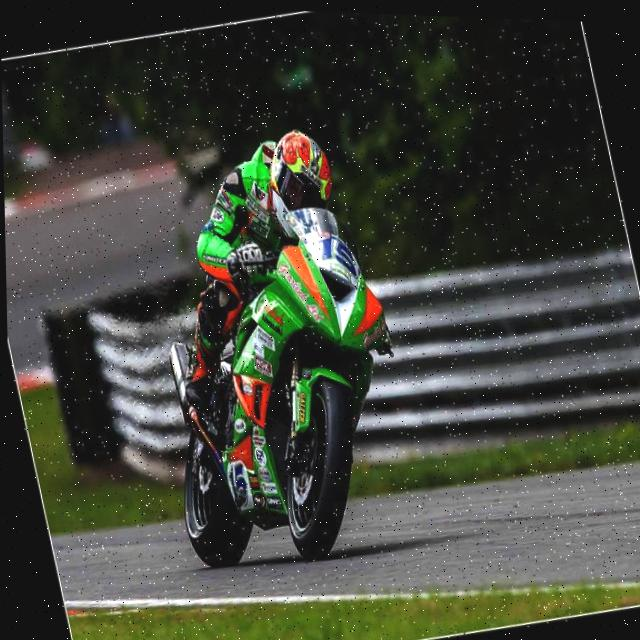motorcycle: (119, 188, 448, 602)
